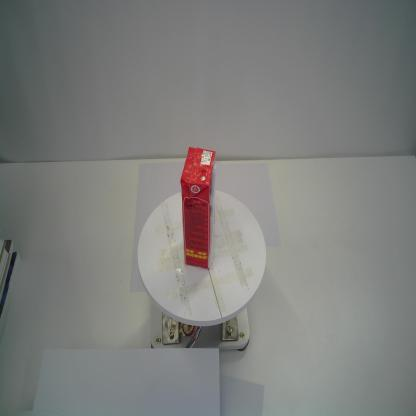Milk: (180, 147, 216, 270)
